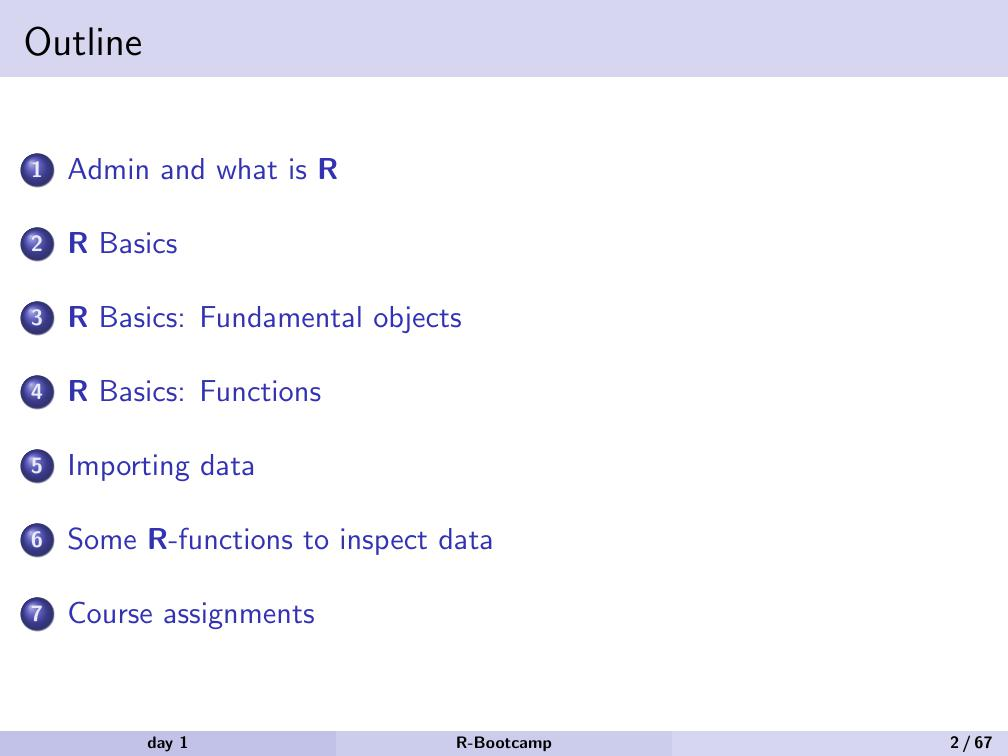Title: (13, 14, 151, 65)
